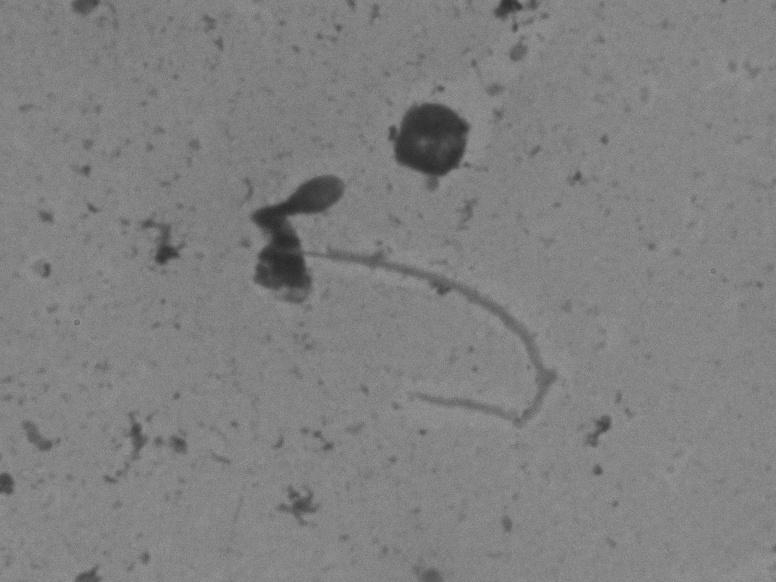Abnormal: (211, 151, 566, 461)
